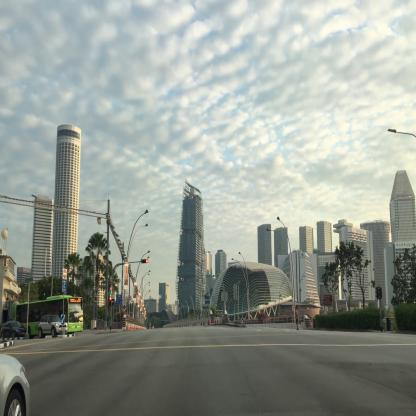red_traffic_light: (141, 259, 148, 263), (109, 297, 111, 306)
